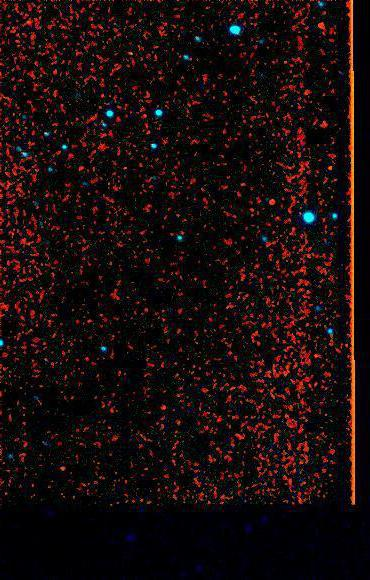star: (49, 452, 79, 482)
